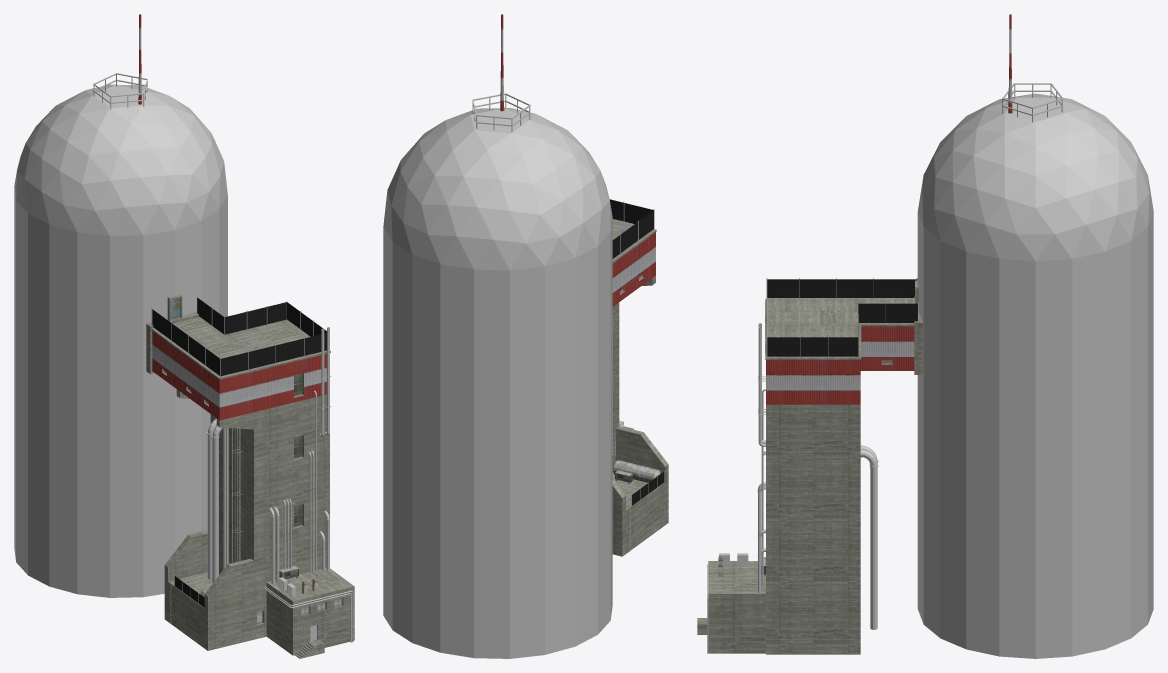
Rendered from building_8.fbx.
3 views of the same model, side by side, from view 1: azimuth 30°, elevation 25°; view 2: azimuth 150°, elevation 25°; view 3: azimuth 270°, elevation 25° (orthographic). The views are drawn at different scales.
Visible parts, largest first — view 1: building_8_Layer1; view 2: building_8_Layer1; view 3: building_8_Layer1.
Part boxes in pixels (box(x1,y1,x2,y2)): building_8_Layer1: box(14, 14, 354, 658); building_8_Layer1: box(383, 14, 668, 658); building_8_Layer1: box(697, 14, 1153, 658).
Size of the model in its own units: 29.13 by 81.58 by 56.36.
